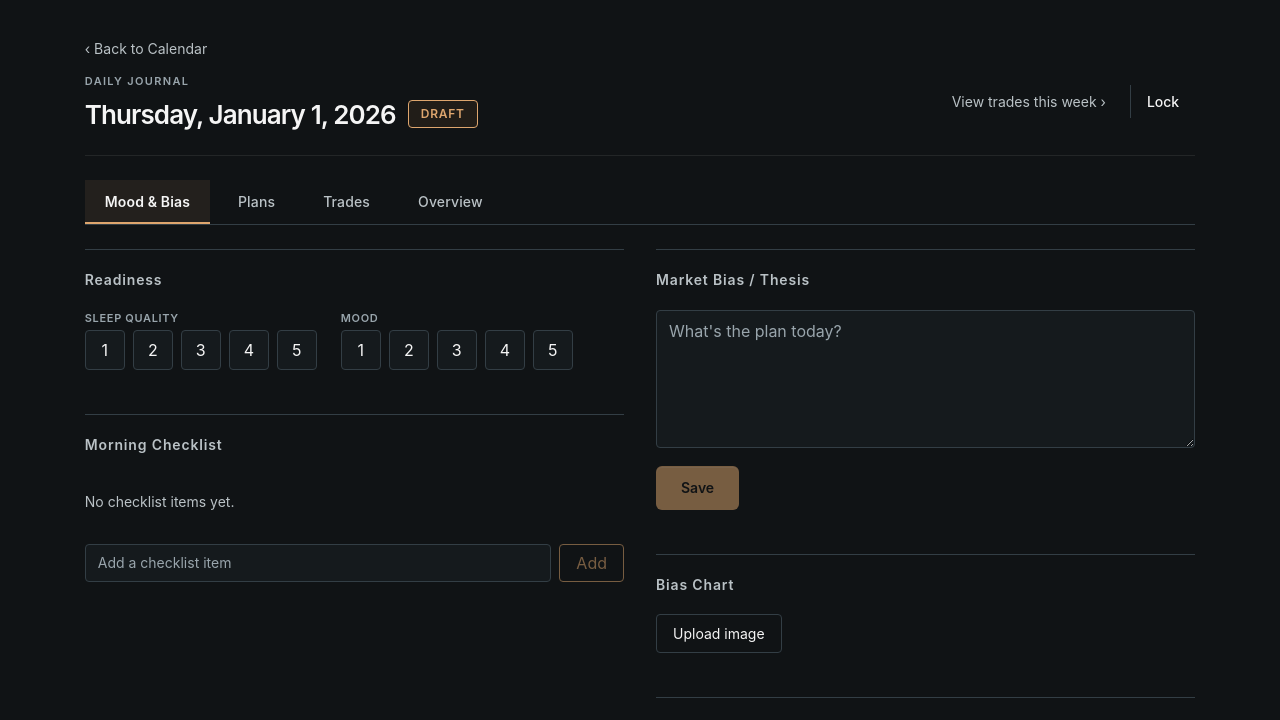
it: JournalDay tab navigation › switches to the Overview tab and shows the day summary
Click the tab with class "day-tab" showing "Overview". click: (450, 202)
box: x1=398 y1=180 x2=503 y2=224
(page scrolled)
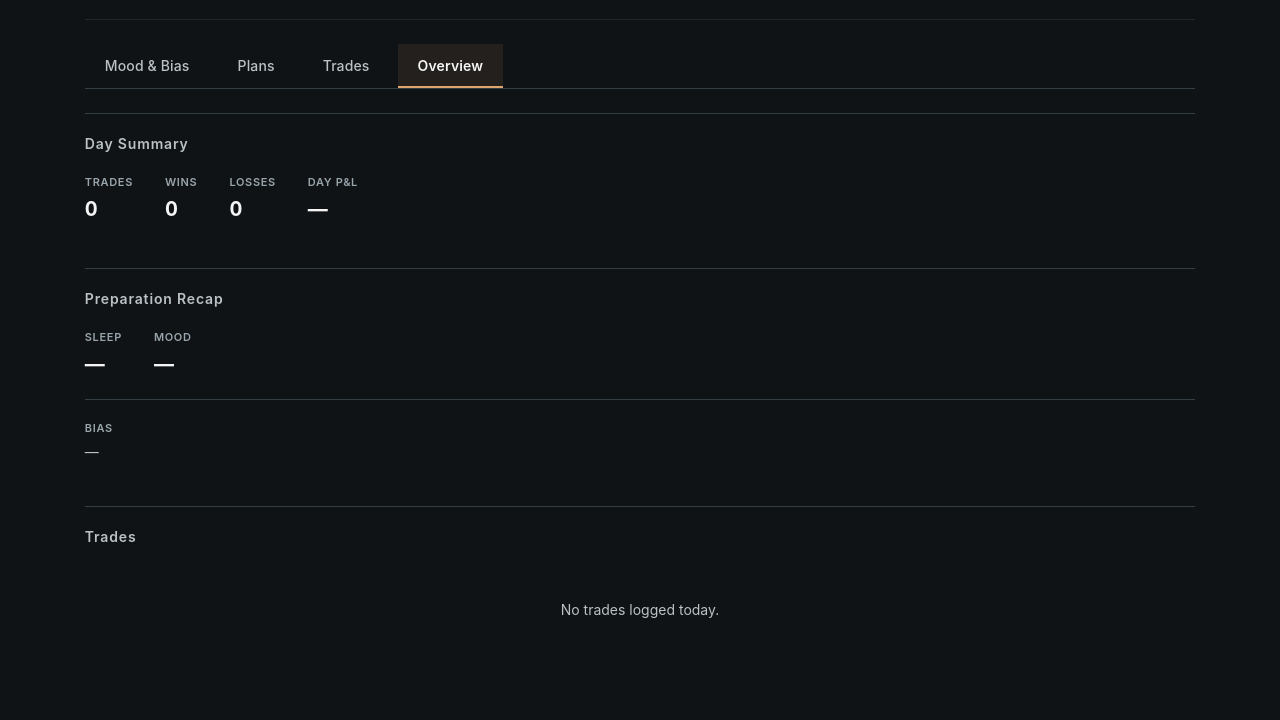
expect the tab with class "day-tab--active" reads "Overview": met, box x1=398 y1=44 x2=503 y2=88
expect the panel with class "day-overview" is shown: met
expect the text "Day Summary" is shown: met, box x1=85 y1=134 x2=189 y2=154
